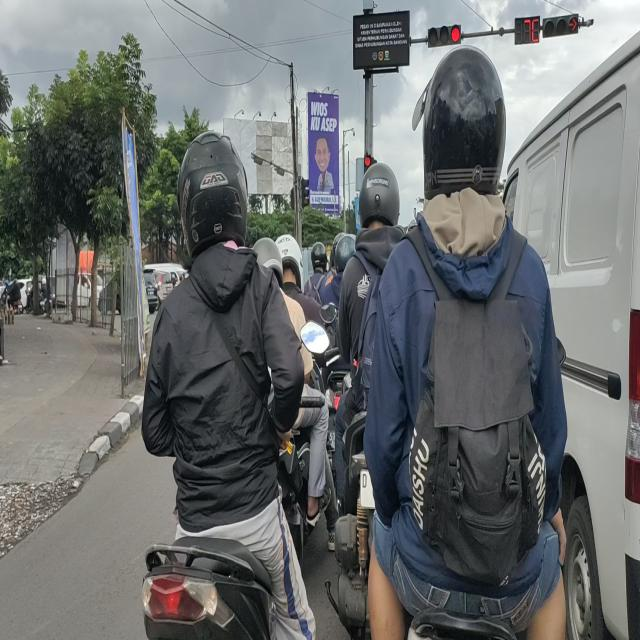helmet: (422, 49, 506, 188), (182, 144, 247, 242), (362, 167, 398, 228), (279, 236, 302, 287), (253, 237, 279, 272), (335, 230, 359, 262), (312, 239, 325, 268)
